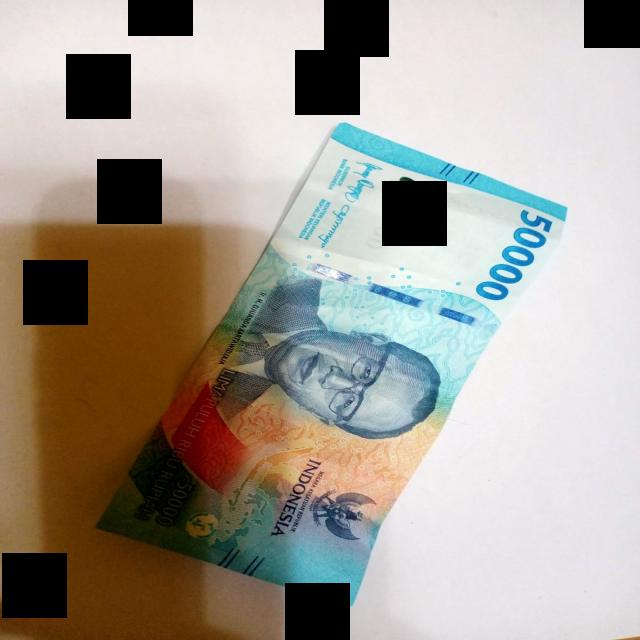lima puluh ribu rupiah: (98, 124, 567, 604)
